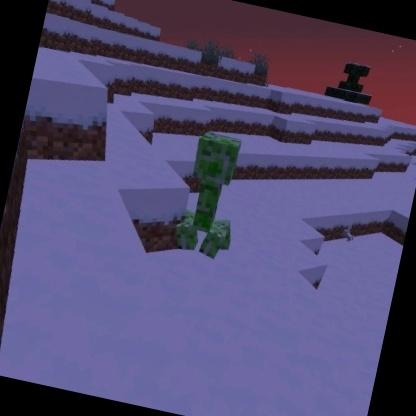creeper: (167, 125, 256, 265)
